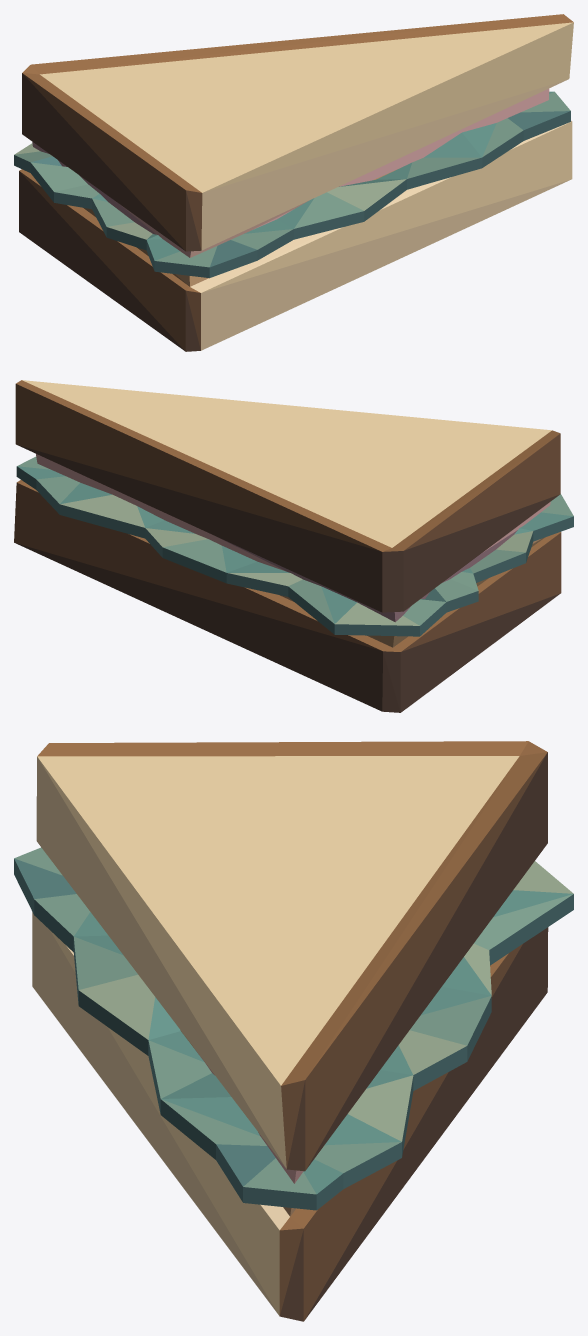
Rendered from sandwhich.fbx.
The picture shows the model from 3 angles, top to bottom: view 1: azimuth 30°, elevation 25°; view 2: azimuth 150°, elevation 25°; view 3: azimuth 270°, elevation 25°; orthographic projection. The views are drawn at different scales.
Parts seen in each view (by area): view 1: polySurface5; view 2: polySurface5; view 3: polySurface5.
Part boxes in pixels (left/top/right/bottom): polySurface5: left=14, top=14, right=573, bottom=351; polySurface5: left=14, top=380, right=573, bottom=712; polySurface5: left=14, top=741, right=573, bottom=1321.
Bounding box in the file's own units: 12.71 × 3.99 × 8.44.
